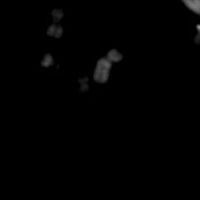chromosome: (93, 50, 122, 82), (45, 7, 62, 36), (182, 0, 200, 24), (39, 52, 54, 70), (194, 25, 200, 46)
